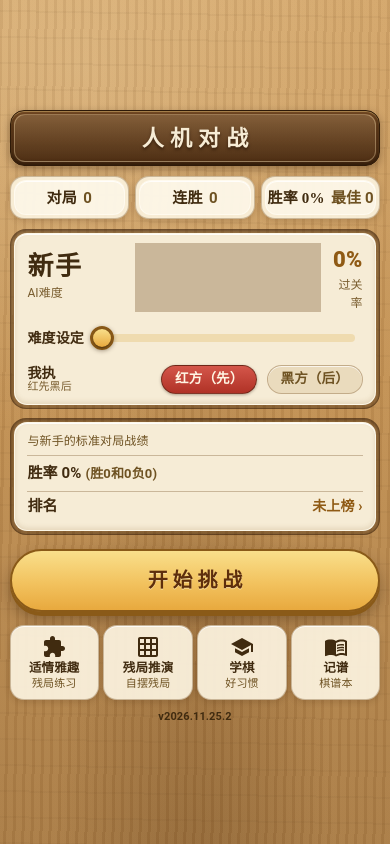
Scenario: 全局主页按钮（v2026.11.23.8） › 记谱页有主页按钮，点了回主页
Click the text "记谱" at (336, 669), box 323,662 -> 348,676
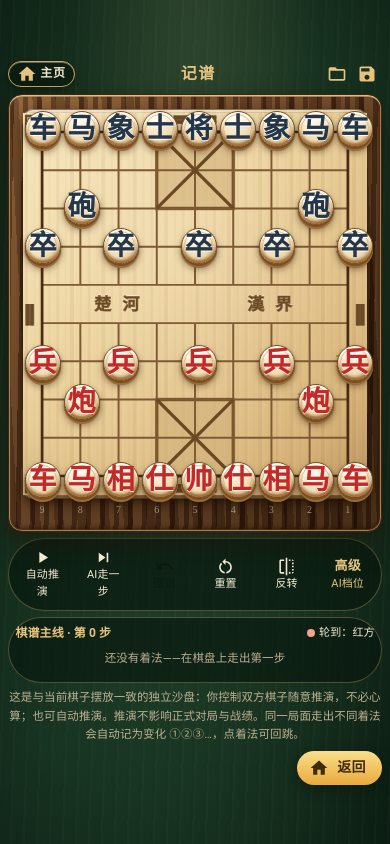
Click the button with test id "sim-home" at (41, 74), box 8,61 -> 75,87
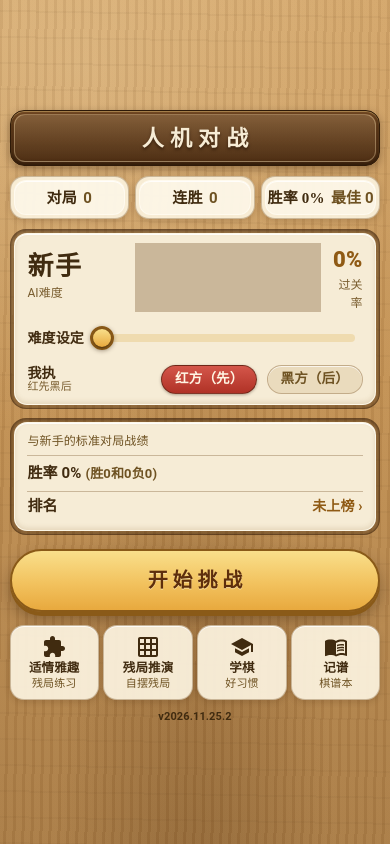
Now the button "开始挑战" is shown, box 10,549 -> 380,612
